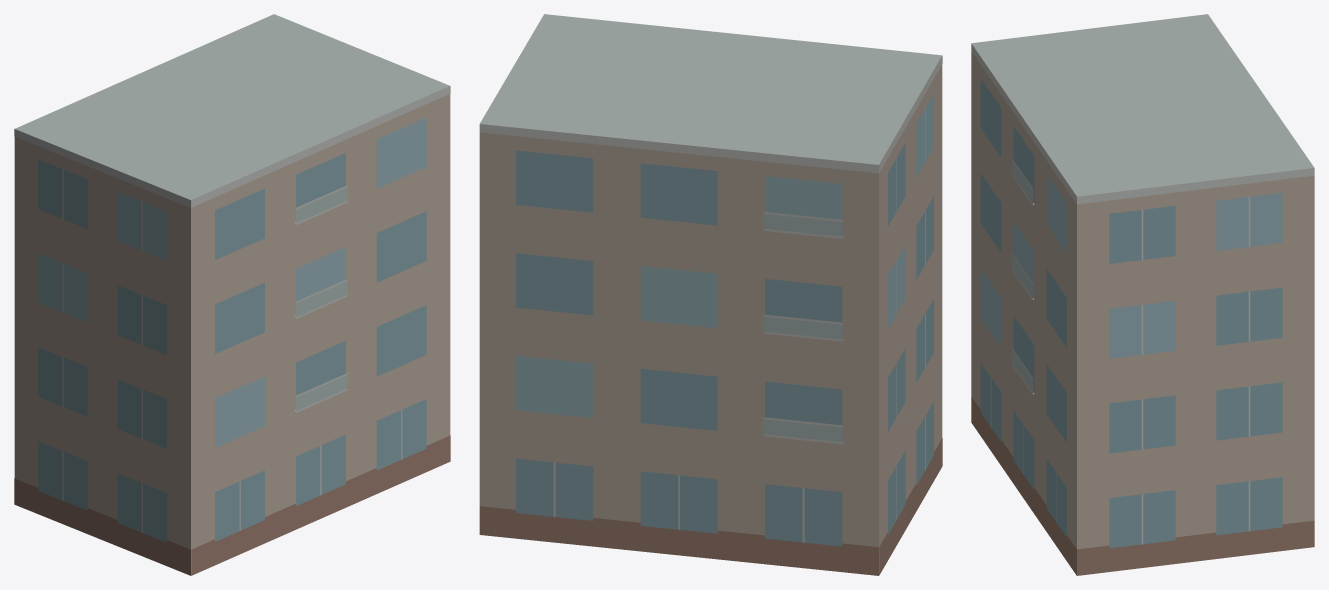
File: survey-upis-33006109.glb
3 renders of one model, left to right at view 1: azimuth 30°, elevation 25°; view 2: azimuth 150°, elevation 25°; view 3: azimuth 270°, elevation 25°, orthographic. The views are drawn at different scales.
Parts seen in each view (by area): view 1: survey-upis-33006109.tmp; view 2: survey-upis-33006109.tmp; view 3: survey-upis-33006109.tmp.
Part boxes in pixels (box(x1,y1,x2,y2)): survey-upis-33006109.tmp: box(14, 14, 450, 575); survey-upis-33006109.tmp: box(479, 14, 942, 575); survey-upis-33006109.tmp: box(971, 14, 1314, 575).
Size of the model in its own units: 12.31 by 11.9 by 9.77.
